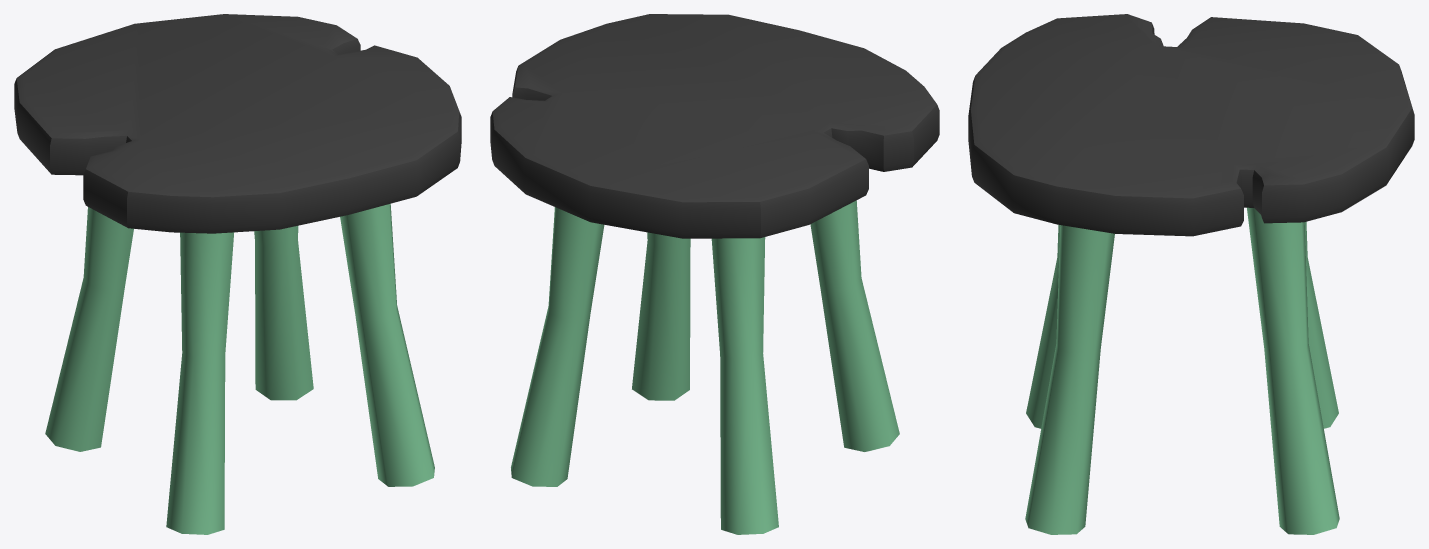
The model's file is Mini_Chair.FBX.
3 renders of one model, left to right at view 1: azimuth 30°, elevation 25°; view 2: azimuth 150°, elevation 25°; view 3: azimuth 270°, elevation 25°, orthographic. The views are drawn at different scales.
Visible parts, largest first — view 1: Line003, Cylinder002; view 2: Line003, Cylinder002; view 3: Line003, Cylinder002.
Part boxes in pixels (<box>): Line003: <box>14,14,461,233</box>; Cylinder002: <box>45,203,434,534</box>; Line003: <box>490,14,939,238</box>; Cylinder002: <box>511,200,899,534</box>; Line003: <box>968,14,1414,236</box>; Cylinder002: <box>1025,207,1339,534</box>.
Size of the model in its own units: 70.85 by 65.76 by 71.62.
